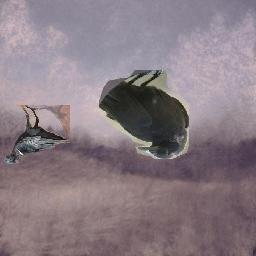Crow: (99, 71, 189, 160), (4, 106, 70, 165)
